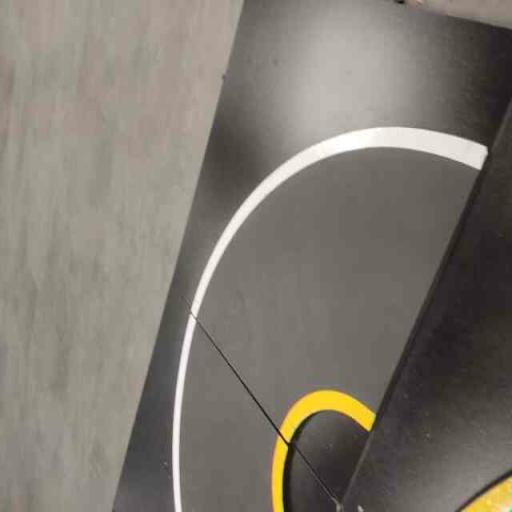left: (185, 63, 493, 444)
